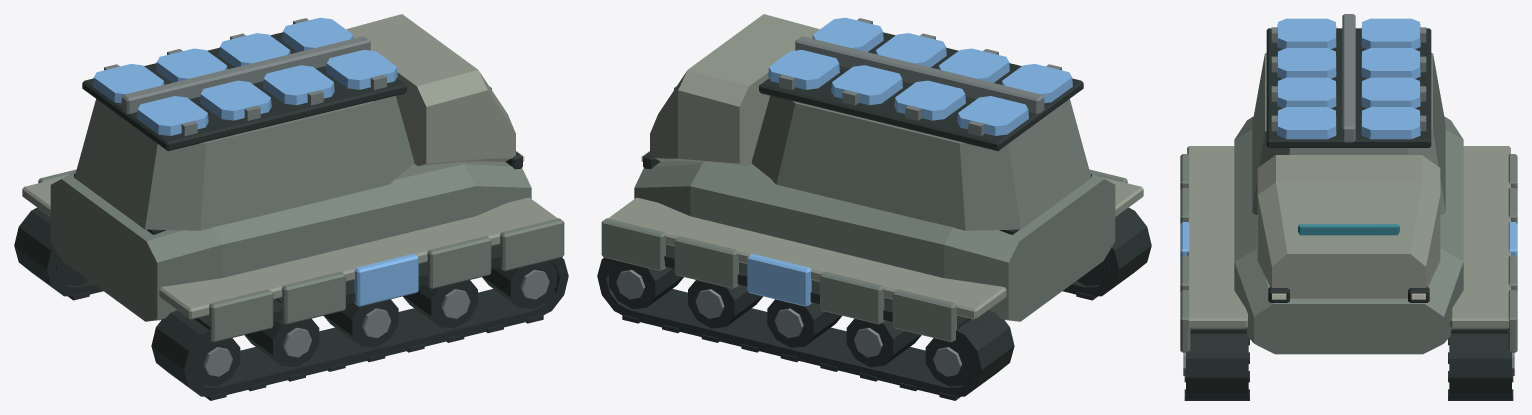
The model's file is hive.glb.
3 views of the same model, side by side, from view 1: azimuth 30°, elevation 25°; view 2: azimuth 150°, elevation 25°; view 3: azimuth 270°, elevation 25° (orthographic). The views are drawn at different scales.
Visible parts, largest first — view 1: coalition_hive; view 2: coalition_hive; view 3: coalition_hive.
Part boxes in pixels (x1,y1,x2,y2): coalition_hive: (14, 14, 568, 400); coalition_hive: (597, 14, 1151, 400); coalition_hive: (1180, 14, 1517, 400).
Bounding box in the file's own units: 2.38 × 1.43 × 1.88.
